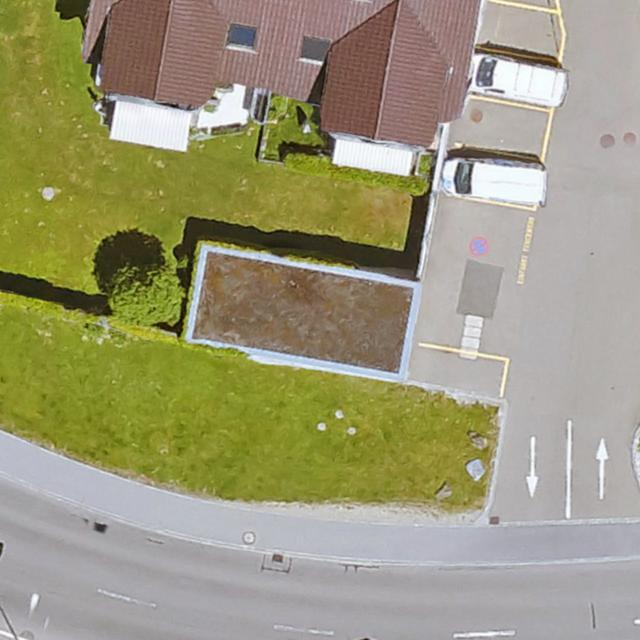tree: (107, 264, 181, 326)
